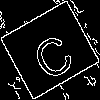C: (25, 25, 78, 83)
